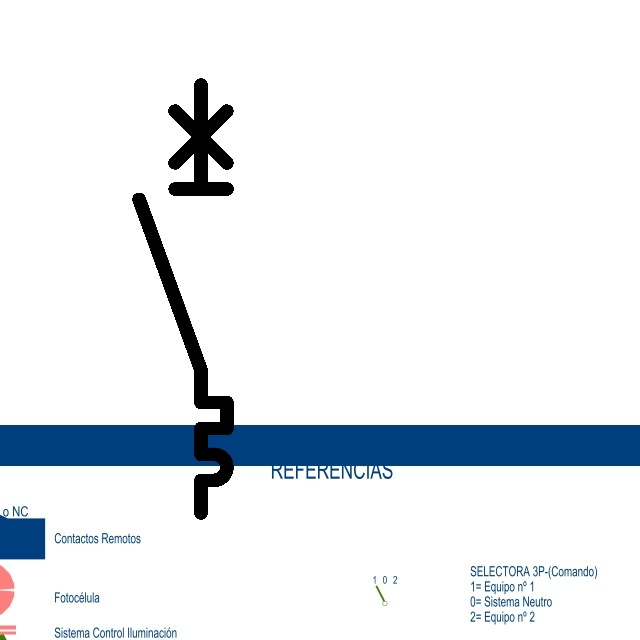interruptor_termomagnetico: (128, 74, 238, 524)
